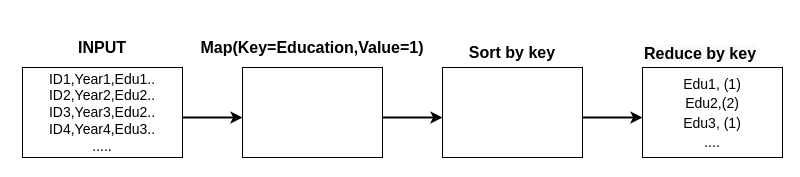
Some shapes in this 800 by 177 pixel diagram are drawn without their labels. Each missing label, with the centre of its shape:
"Edu1, (1) Edu2,(1, 1) Edu3, (1) ...." belongs at [512,112].
"Edu1, 1 Edu2, 1 Edu2, 1 Edu3, 1 ...." belongs at [312,112].
